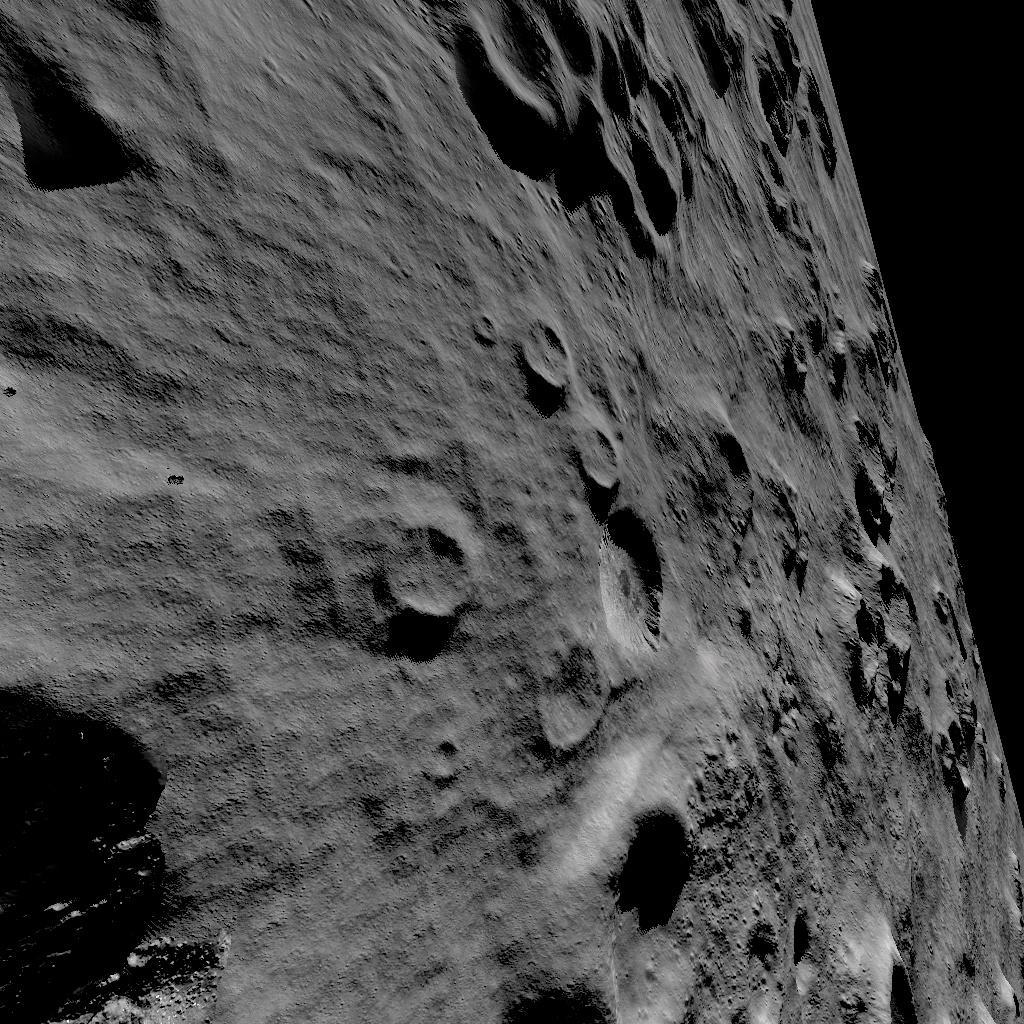Crater: (0, 668, 251, 1024), (433, 0, 700, 259), (0, 0, 200, 219), (845, 568, 1009, 814), (535, 512, 680, 768), (711, 0, 861, 239), (591, 804, 727, 1024), (771, 260, 925, 404), (381, 518, 490, 632), (747, 924, 836, 1024), (705, 422, 770, 558), (843, 460, 924, 556), (525, 318, 589, 402), (880, 948, 944, 1024), (571, 428, 637, 496)
Plan surface: (5, 236, 368, 652), (271, 678, 520, 1024), (223, 4, 419, 222)
